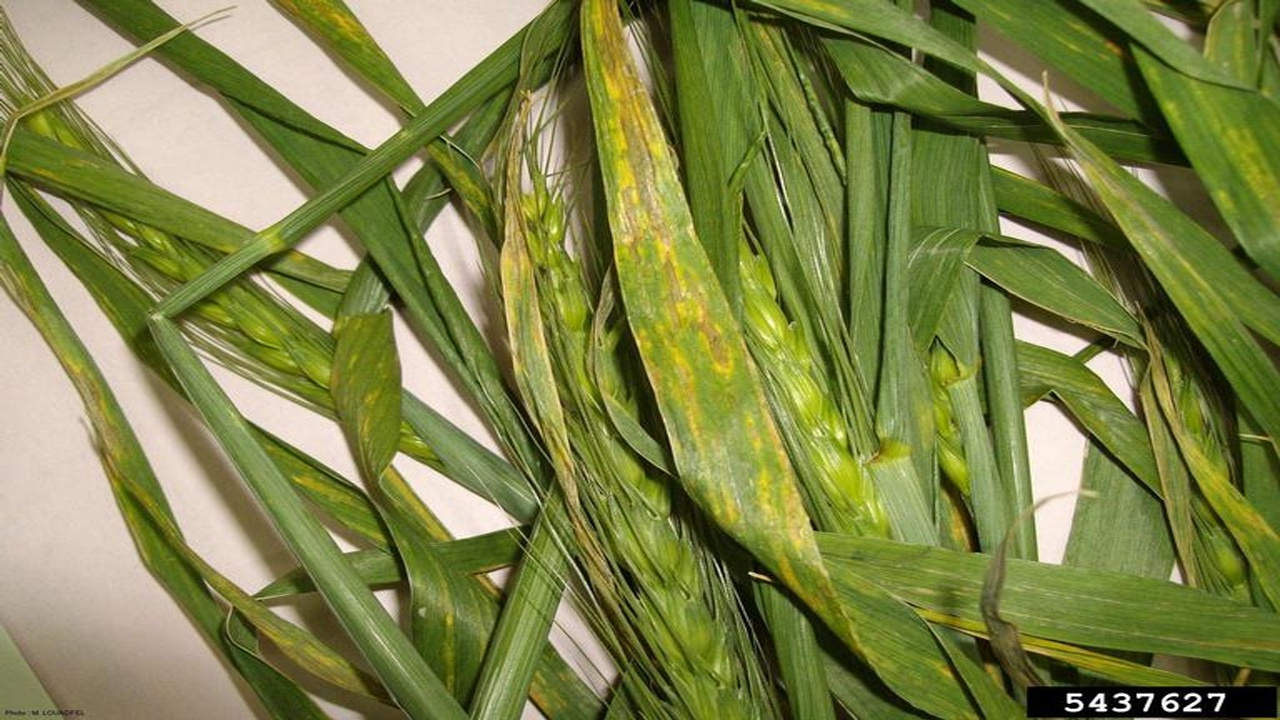tan_spot: (581, 2, 833, 622)
